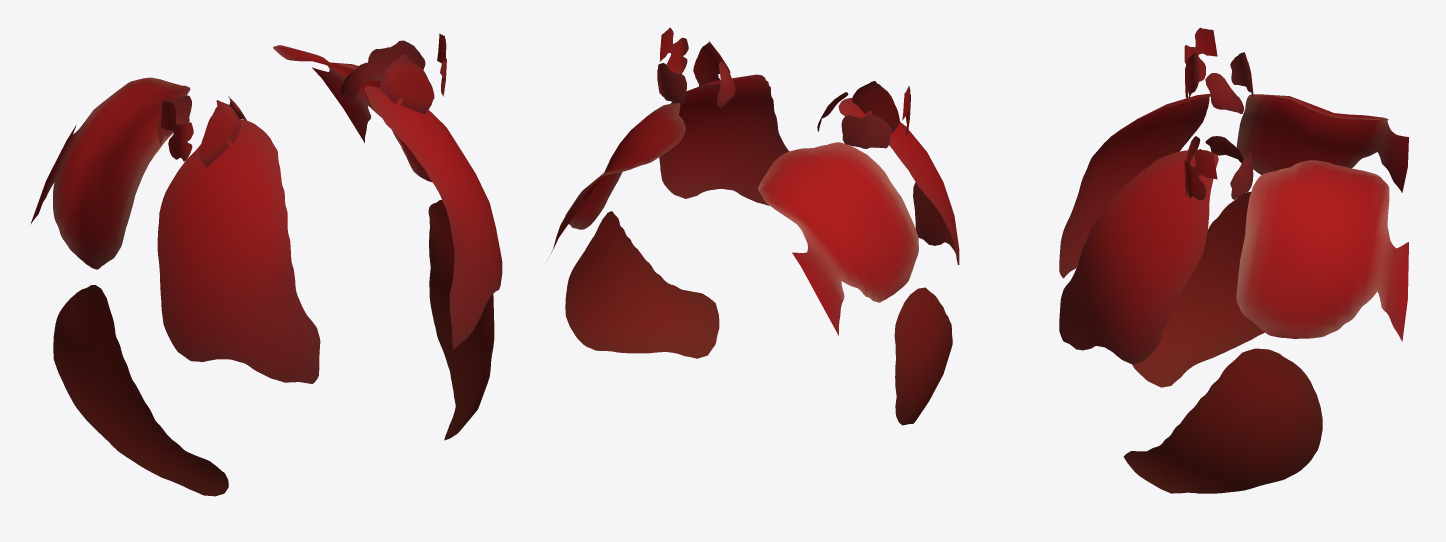
File: cat.fbx
3 views of the same model, side by side, from view 1: azimuth 30°, elevation 25°; view 2: azimuth 150°, elevation 25°; view 3: azimuth 270°, elevation 25° (orthographic). The views are drawn at different scales.
Parts seen in each view (by area): view 1: polySurface44; view 2: polySurface44; view 3: polySurface44.
Boxes of the visible parts, x1,y1,x2,y2 form: polySurface44: (30, 33, 502, 496); polySurface44: (547, 27, 959, 425); polySurface44: (1059, 27, 1408, 493).
Bounding box in the file's own units: 39.23 × 47.25 × 43.2.
1 material, 1 textured.
